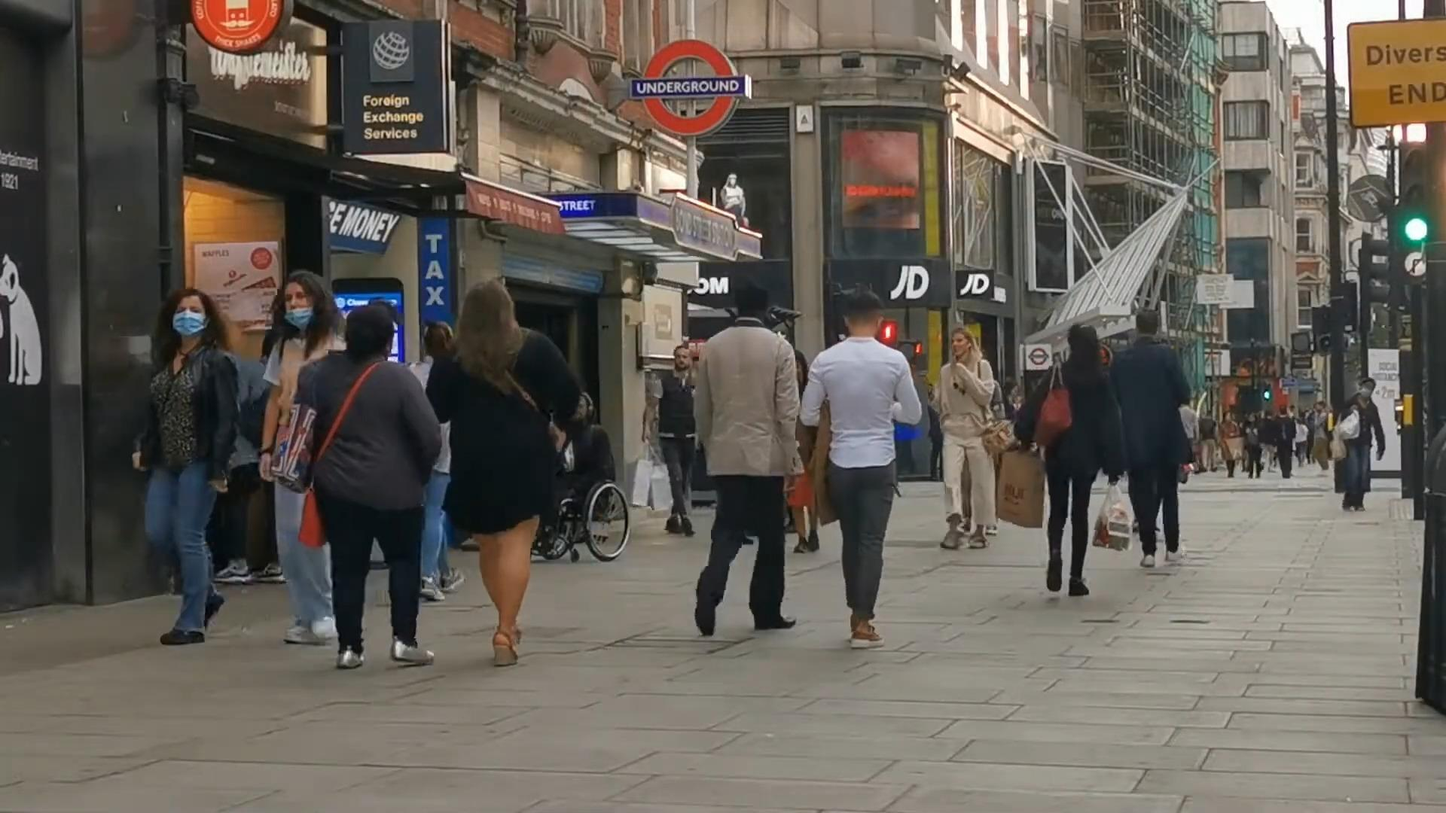no-helmet: (272, 270, 340, 333), (460, 280, 519, 344), (160, 288, 225, 340), (345, 305, 394, 360), (843, 290, 884, 337), (1067, 322, 1102, 365), (424, 321, 454, 364), (950, 327, 982, 363), (1136, 307, 1159, 337), (673, 345, 693, 372)
